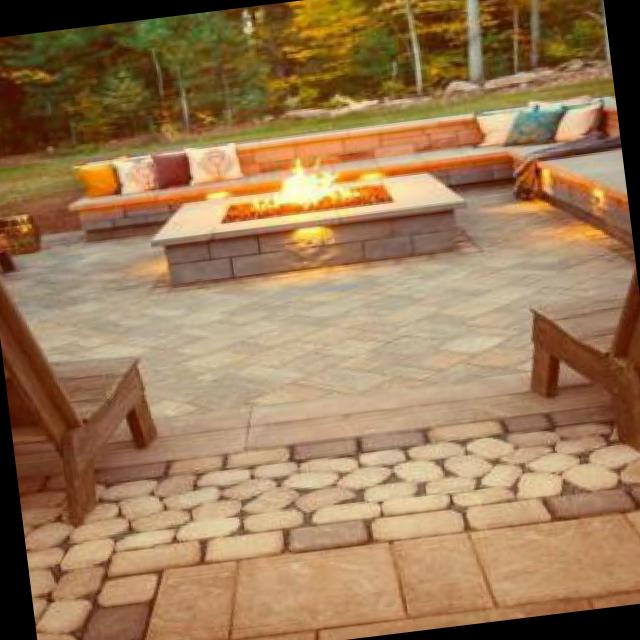fire: (258, 136, 339, 222)
